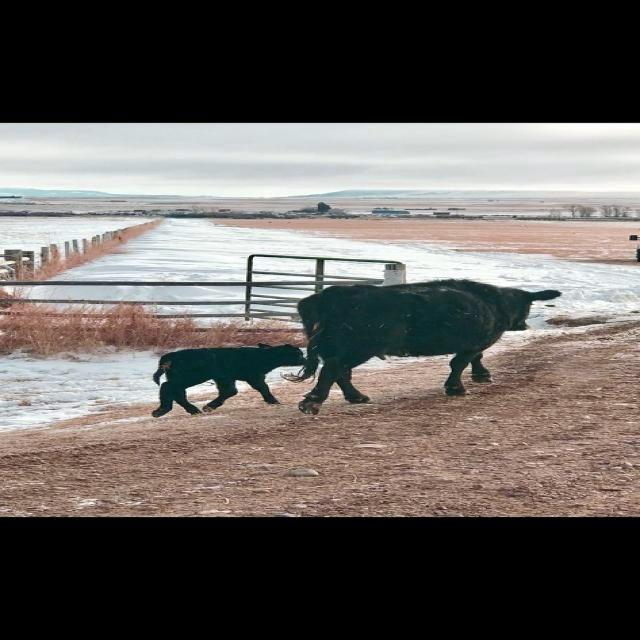cow: (298, 280, 560, 413), (152, 345, 305, 417)
